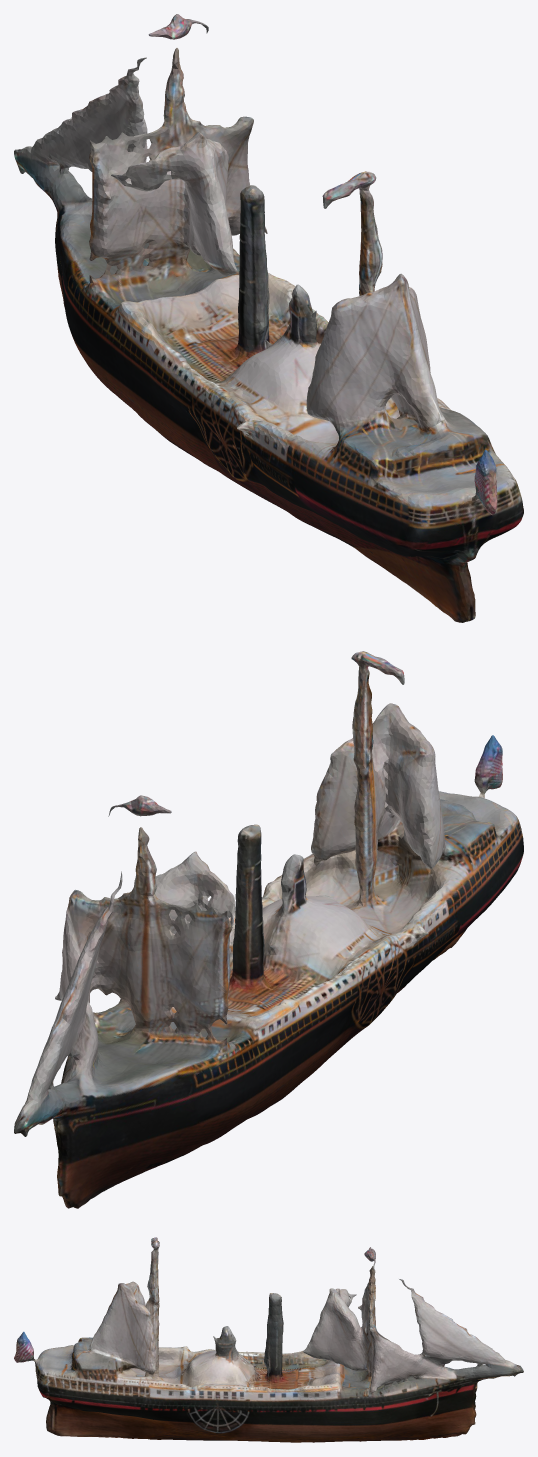
File: Pulaski (Better) - a_detailed_model_of_the_steamship_pulaski_the_ship_features_a_wooden_hull_two_tall_masts_with_whit.glb
3 views of the same model, one above another, from view 1: azimuth 30°, elevation 25°; view 2: azimuth 150°, elevation 25°; view 3: azimuth 270°, elevation 25° (orthographic). The views are drawn at different scales.
Parts seen in each view (by area): view 1: geometry_0; view 2: geometry_0; view 3: geometry_0.
Part boxes in pixels (x1,y1,x2,y2): geometry_0: (14, 14, 523, 622); geometry_0: (14, 651, 523, 1208); geometry_0: (14, 1237, 523, 1442).
Bounding box in the file's own units: 0.247 × 0.4272 × 1.01.
Materials: 1 (1 with a texture image).
